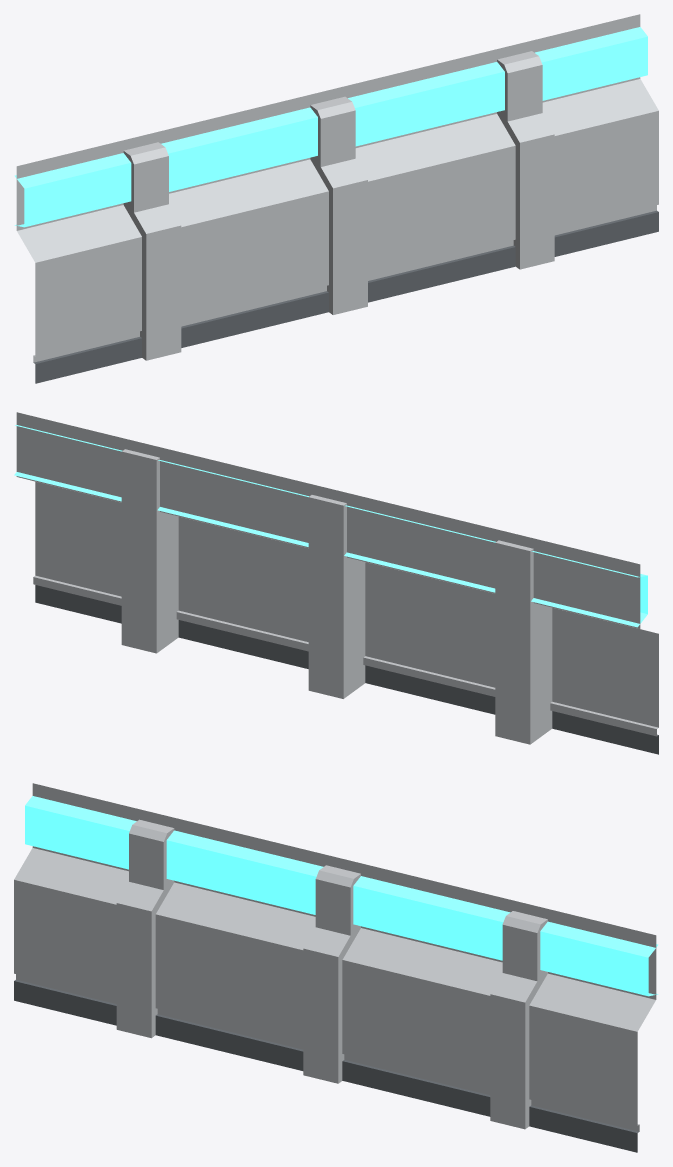
Rendered from wall_low-DYPQsQ1K.glb.
The picture shows the model from 3 angles, top to bottom: view 1: azimuth 30°, elevation 25°; view 2: azimuth 150°, elevation 25°; view 3: azimuth 330°, elevation 25°; orthographic projection.
Parts seen in each view (by area): view 1: Wall_Empty; view 2: Wall_Empty; view 3: Wall_Empty.
Boxes of the visible parts, bbox=[...] form: Wall_Empty: bbox=[14, 14, 658, 383]; Wall_Empty: bbox=[14, 412, 658, 754]; Wall_Empty: bbox=[14, 783, 658, 1152].
Size of the model in its own units: 3.34 by 1.04 by 0.2416.
